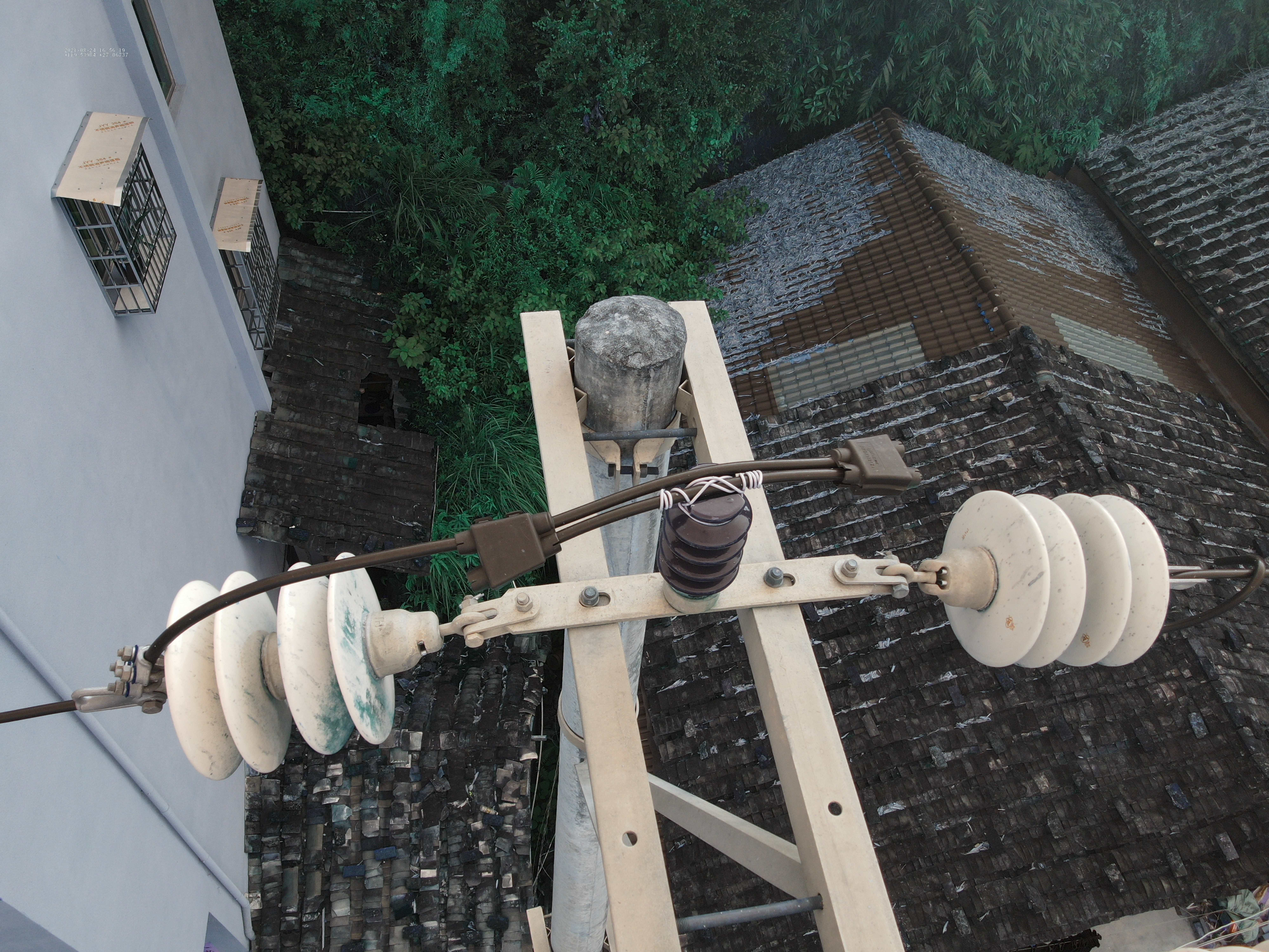severe_soiling_no_discharge_whole: (158, 548, 449, 781)
